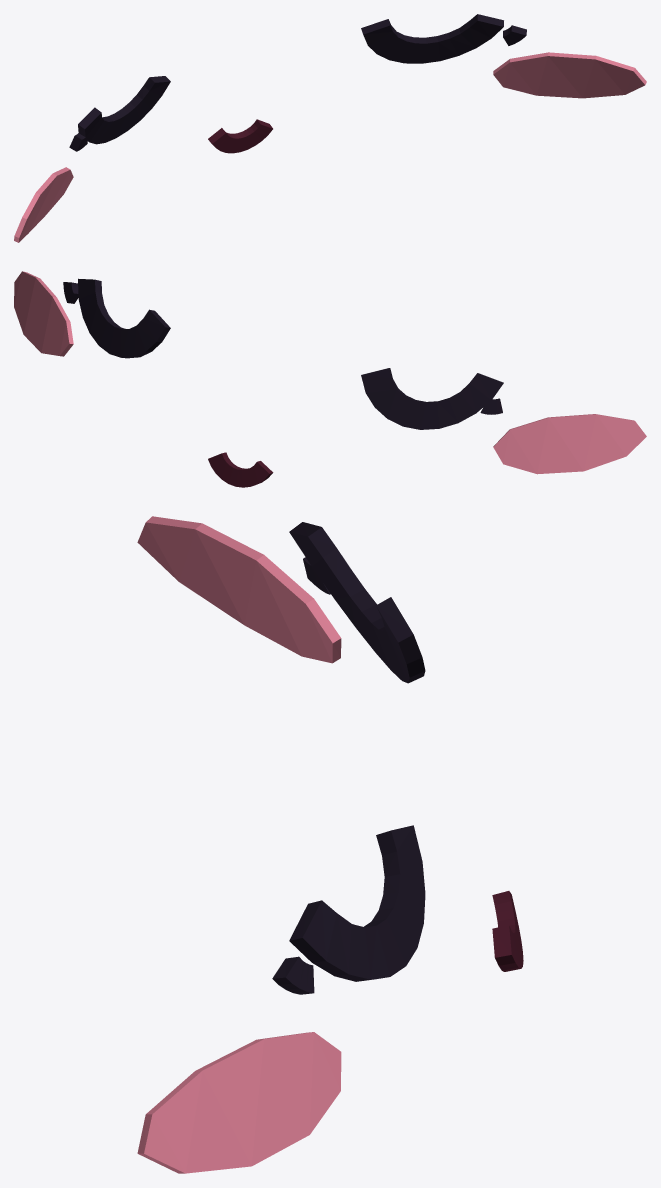
Rendered from slime_face_sleepy.fbx.
3 renders of one model, top to bottom at view 1: azimuth 30°, elevation 25°; view 2: azimuth 150°, elevation 25°; view 3: azimuth 270°, elevation 25°, orthographic. The views are drawn at different scales.
Visible parts, largest first — view 1: slime_face_sleepy; view 2: slime_face_sleepy; view 3: slime_face_sleepy.
Boxes of the visible parts, x1,y1,x2,y2 form: slime_face_sleepy: (14, 14, 646, 242); slime_face_sleepy: (14, 271, 646, 487); slime_face_sleepy: (137, 516, 523, 1173).
Bounding box in the file's own units: 2.1 × 0.3975 × 0.5545.
